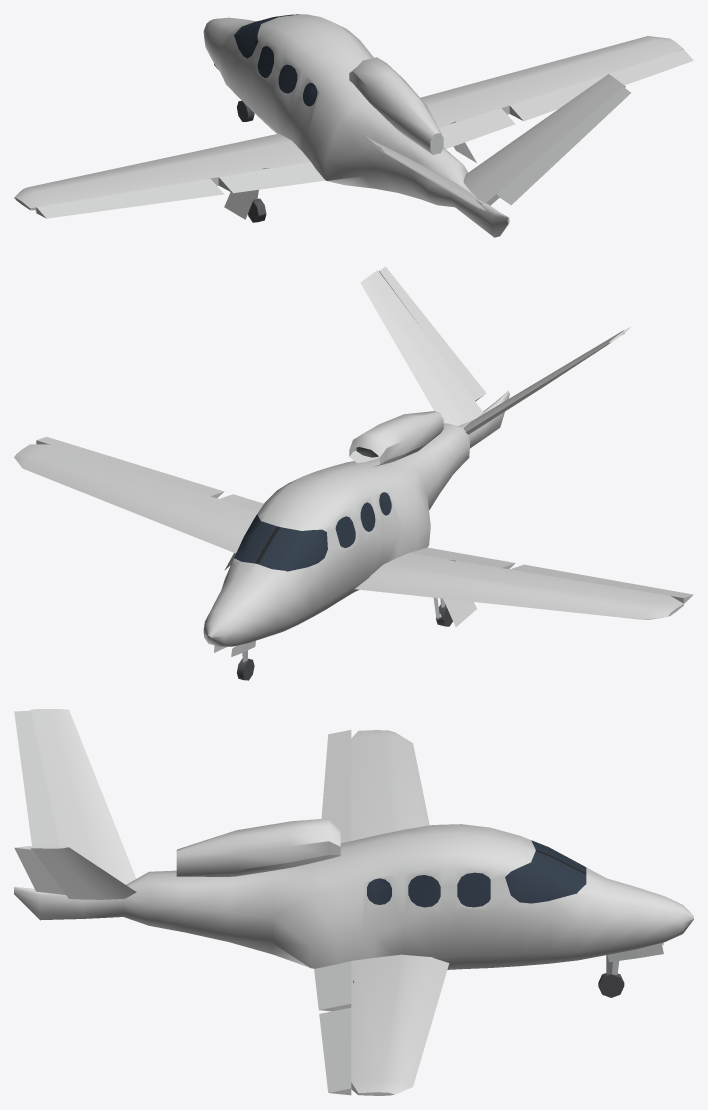
Rendered from Cirrus_Vision_Jet_LOD3.glb.
The picture shows the model from 3 angles, top to bottom: view 1: azimuth 30°, elevation 25°; view 2: azimuth 150°, elevation 25°; view 3: azimuth 270°, elevation 25°; orthographic projection. The views are drawn at different scales.
Parts seen in each view (by area): view 1: Fuselage, Wing_Left, Wing_Right, VTail_Right, Nacelle, Aileron_Left, Aileron_Right, Ruddervator_Right, Flap_Left, Flap_Right, Ruddervator_Left, BayDoor_Main_Left (+1 smaller); view 2: Fuselage, Wing_Left, Wing_Right, VTail_Right, Nacelle, Ruddervator_Right, Aileron_Right, VTail_Left, Aileron_Left, Flap_Left; view 3: Fuselage, Wing_Right, VTail_Left, Wing_Left, Nacelle, Ruddervator_Left, VTail_Right, Aileron_Left, Aileron_Right, Flap_Right, Ruddervator_Right.
Part boxes in pixels (box(x1,y1,x2,y2)): Fuselage: box(203, 14, 509, 237); Wing_Left: box(14, 133, 310, 210); Wing_Right: box(420, 36, 683, 128); VTail_Right: box(463, 74, 625, 205); Nacelle: box(349, 57, 443, 154); Aileron_Left: box(36, 178, 223, 218); Aileron_Right: box(509, 49, 693, 121); Ruddervator_Right: box(497, 86, 630, 205); Flap_Left: box(218, 162, 325, 193); Flap_Right: box(438, 108, 515, 148); Ruddervator_Left: box(377, 146, 485, 210); BayDoor_Main_Left: box(224, 190, 256, 219); Fuselage: box(203, 390, 509, 646); Wing_Left: box(354, 553, 683, 619); Wing_Right: box(14, 444, 258, 553); VTail_Right: box(360, 270, 482, 425); Nacelle: box(349, 411, 443, 466); Ruddervator_Right: box(379, 266, 486, 401); Aileron_Right: box(36, 436, 224, 498); VTail_Left: box(463, 330, 625, 434); Aileron_Left: box(510, 564, 693, 603); Flap_Left: box(409, 547, 515, 569); Fuselage: box(14, 824, 693, 969); Wing_Right: box(351, 954, 449, 1095); VTail_Left: box(30, 709, 136, 884); Wing_Left: box(351, 730, 429, 840); Nacelle: box(176, 818, 340, 876); Ruddervator_Left: box(14, 710, 59, 846); VTail_Right: box(30, 846, 136, 899); Aileron_Left: box(321, 730, 351, 843); Aileron_Right: box(319, 1007, 351, 1095); Flap_Right: box(314, 961, 351, 1011); Ruddervator_Right: box(14, 846, 65, 894).
Bounding box in the file's own units: 11.8 × 3.32 × 9.36.
